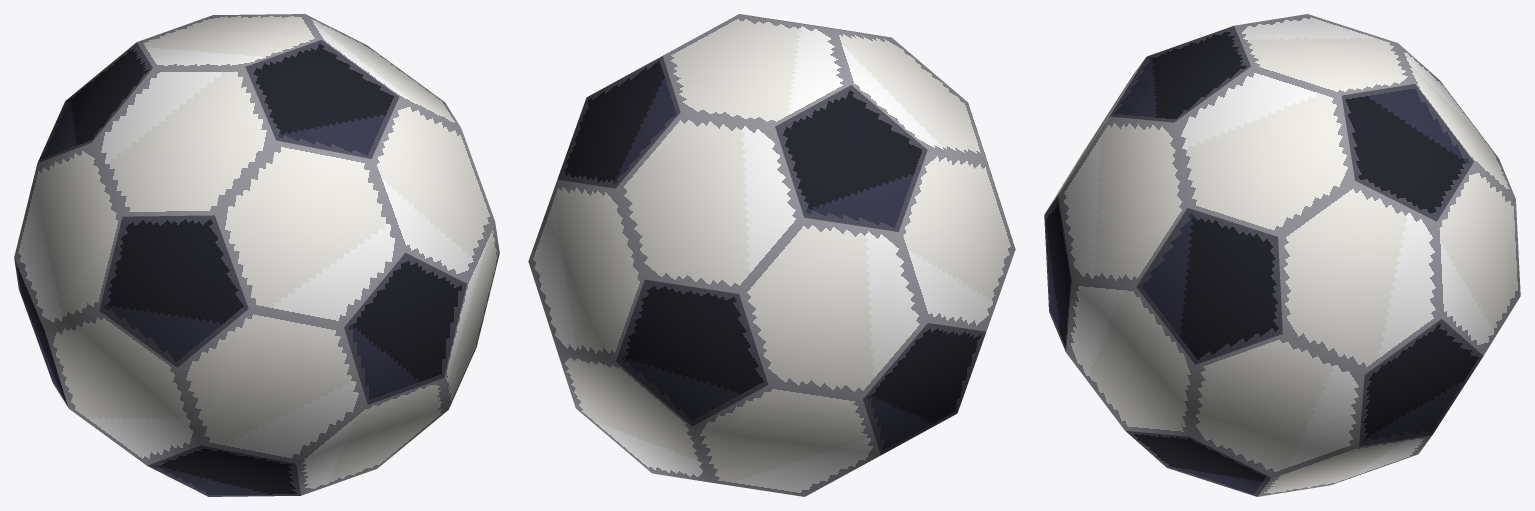
File: moreB-soccerBall.glb
The picture shows the model from 3 angles, left to right: view 1: azimuth 30°, elevation 25°; view 2: azimuth 150°, elevation 25°; view 3: azimuth 270°, elevation 25°; orthographic projection. The views are drawn at different scales.
Parts seen in each view (by area): view 1: moreB.soccerBall; view 2: moreB.soccerBall; view 3: moreB.soccerBall.
Part boxes in pixels (x1,y1,x2,y2): moreB.soccerBall: (14, 14, 499, 496); moreB.soccerBall: (528, 14, 1015, 496); moreB.soccerBall: (1044, 14, 1520, 496).
Bounding box in the file's own units: 1.69 × 1.64 × 1.66.
2 materials, 2 textured.
